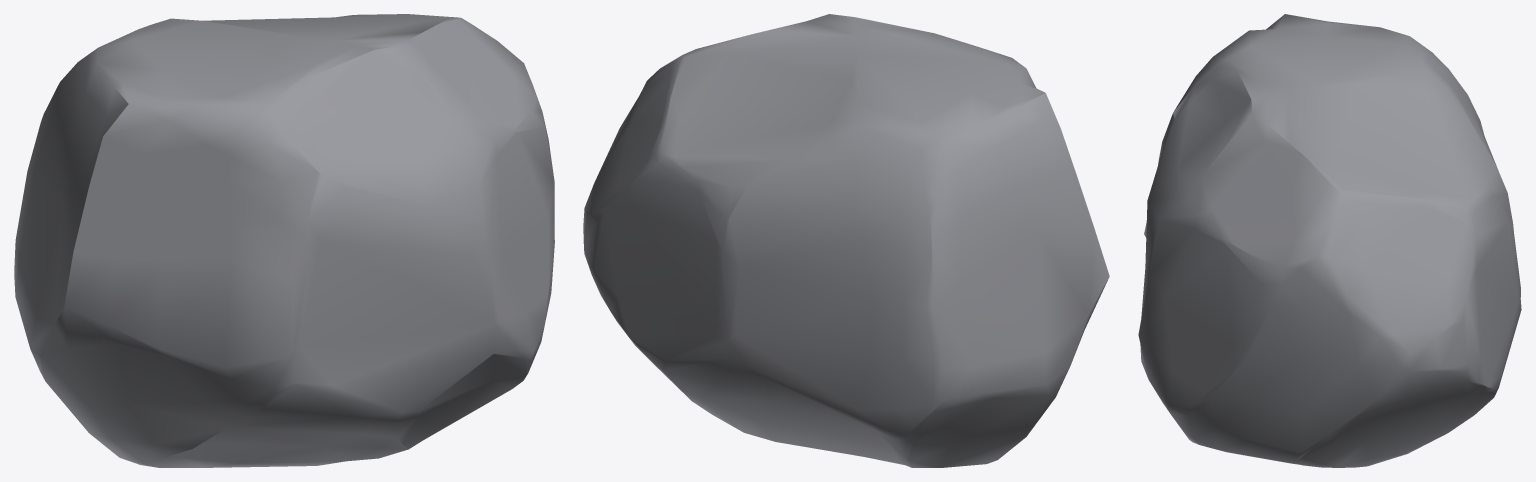
File: environment-rock-3.glb
The picture shows the model from 3 angles, left to right: view 1: azimuth 30°, elevation 25°; view 2: azimuth 150°, elevation 25°; view 3: azimuth 270°, elevation 25°; orthographic projection. The views are drawn at different scales.
Visible parts, largest first — view 1: Environment_Rock_3; view 2: Environment_Rock_3; view 3: Environment_Rock_3.
Boxes of the visible parts, x1,y1,x2,y2 form: Environment_Rock_3: (14, 14, 554, 467); Environment_Rock_3: (583, 14, 1109, 467); Environment_Rock_3: (1138, 14, 1521, 467).
Bounding box in the file's own units: 0.77 × 0.6117 × 0.5839.
1 material, 1 textured.
